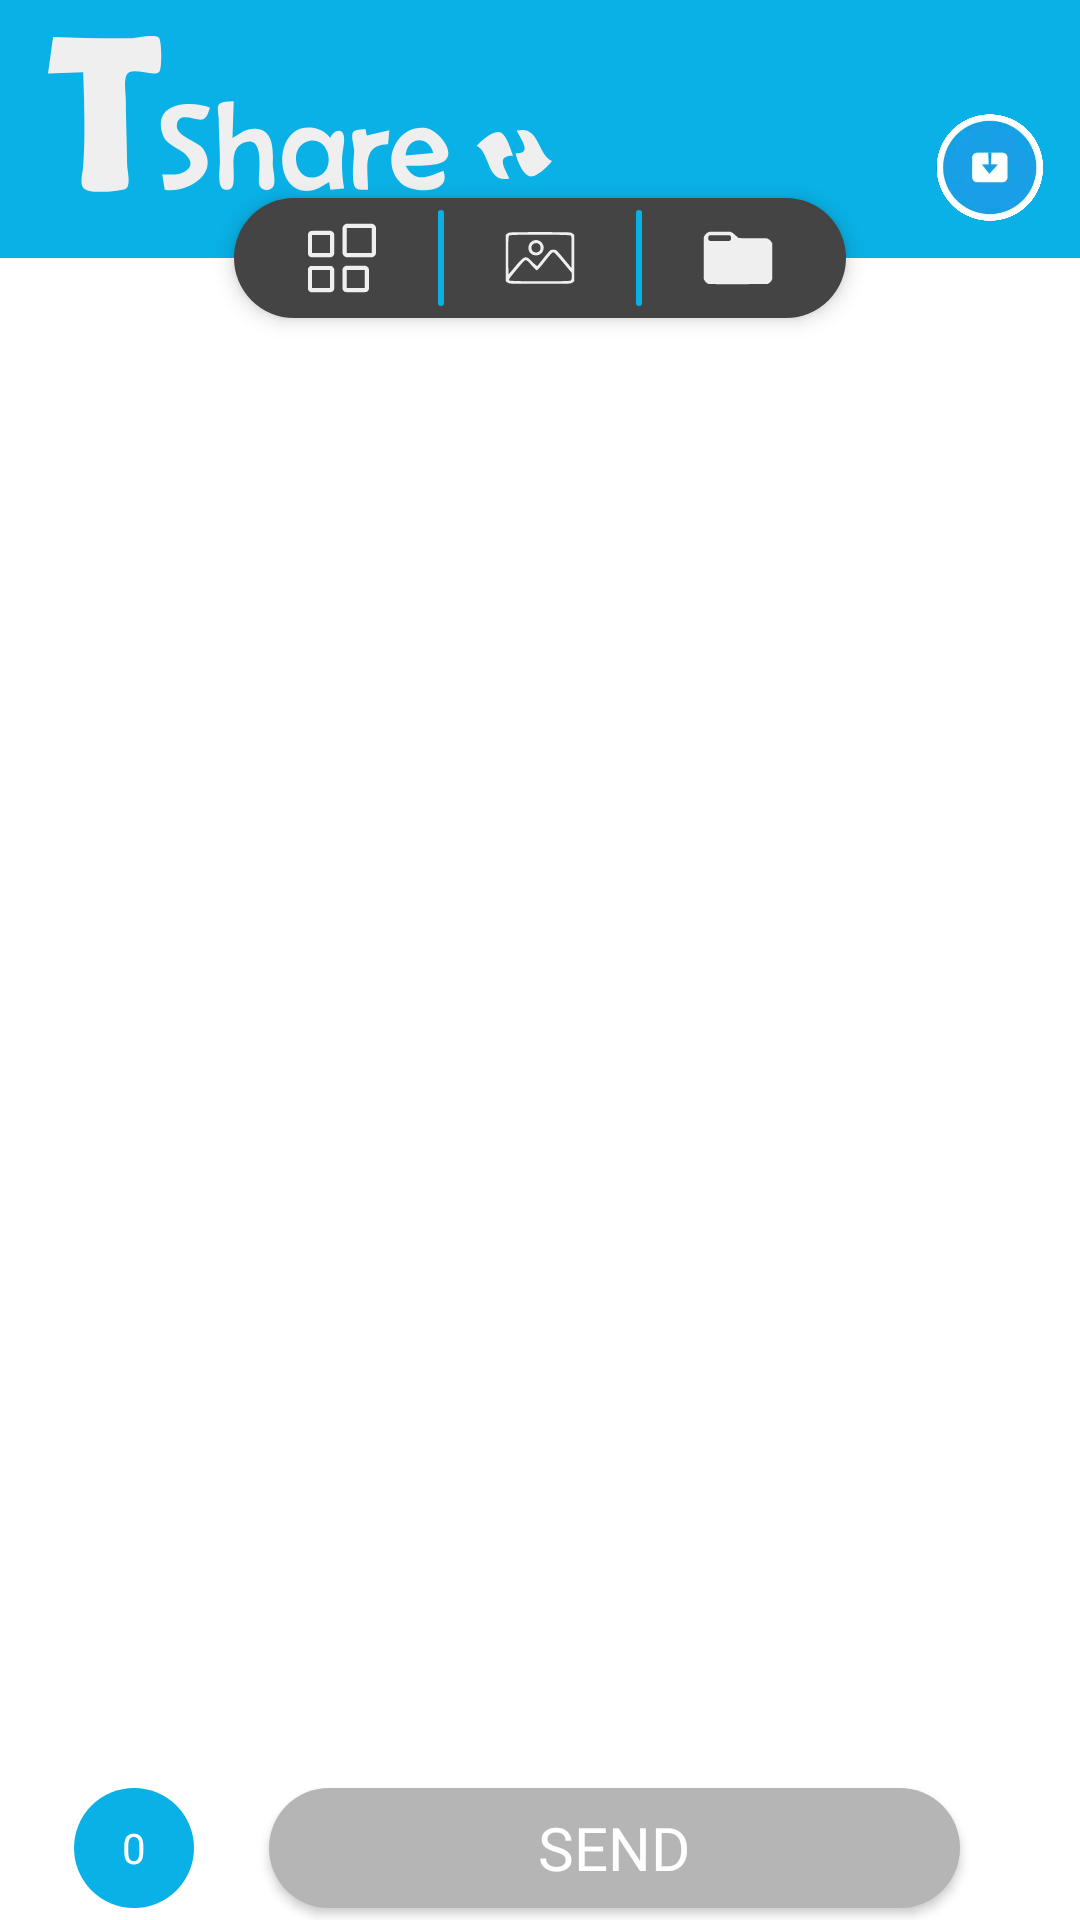

Locate icon controls on the screen. Image size 1080x1920, boxes as (x1, y1, x2, y2).
appout: (308, 223, 376, 293)
filefil: (703, 231, 773, 285)
galout: (505, 232, 575, 284)
recp: (936, 114, 1043, 221)
